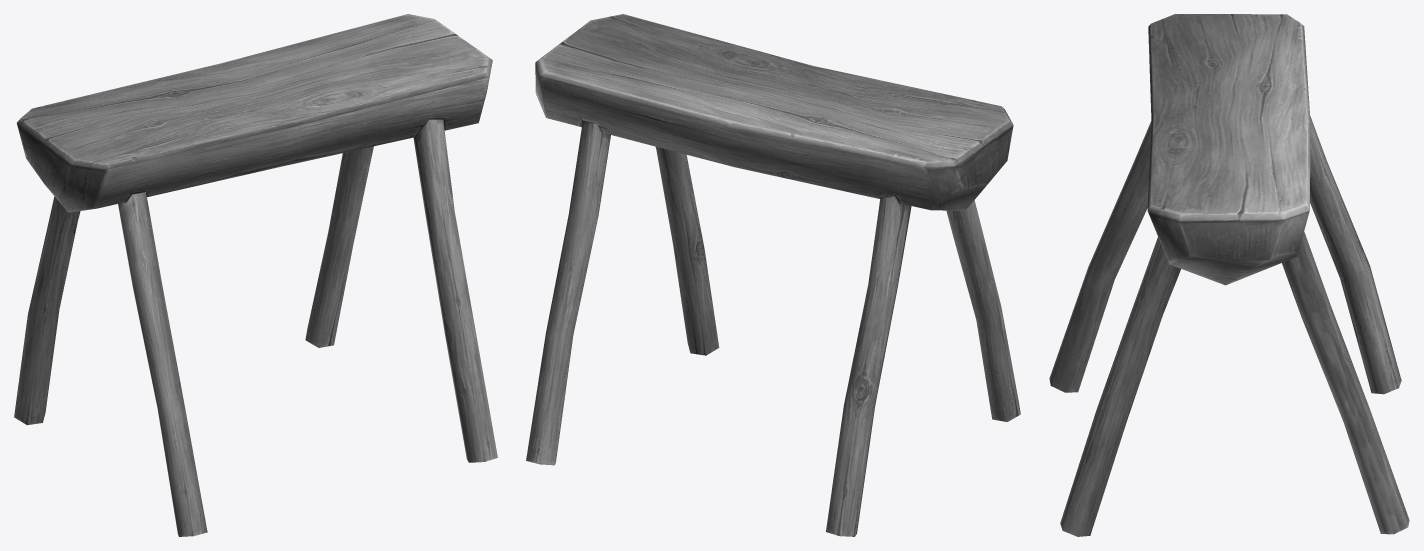
File: Sawbuck01.fbx
The picture shows the model from 3 angles, left to right: view 1: azimuth 30°, elevation 25°; view 2: azimuth 150°, elevation 25°; view 3: azimuth 270°, elevation 25°; orthographic projection.
Parts seen in each view (by area): view 1: Sawbuck01_LOD0; view 2: Sawbuck01_LOD0; view 3: Sawbuck01_LOD0.
Part boxes in pixels (bbox=[...]): Sawbuck01_LOD0: bbox=[14, 14, 497, 536]; Sawbuck01_LOD0: bbox=[526, 14, 1020, 536]; Sawbuck01_LOD0: bbox=[1049, 14, 1409, 536].
Size of what is drawn, in the model's own units: 0.8858 by 0.6938 by 0.6504.
